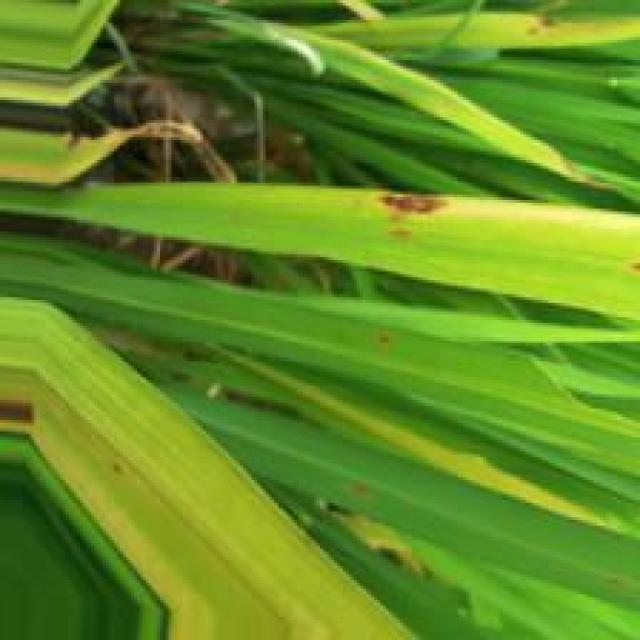Narrow_Brown_Leaf_Spot: (0, 115, 211, 193), (349, 191, 638, 240)
